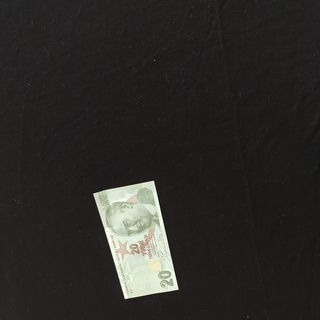20TLFront: (92, 180, 179, 299)
